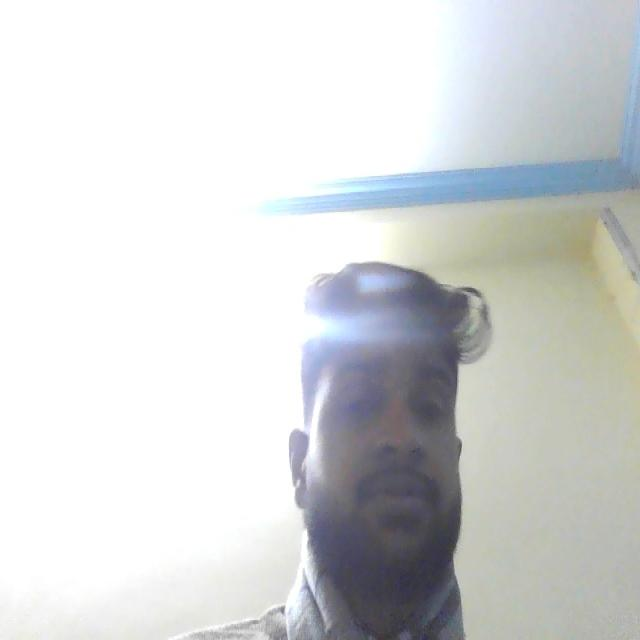real: (274, 201, 488, 607)
